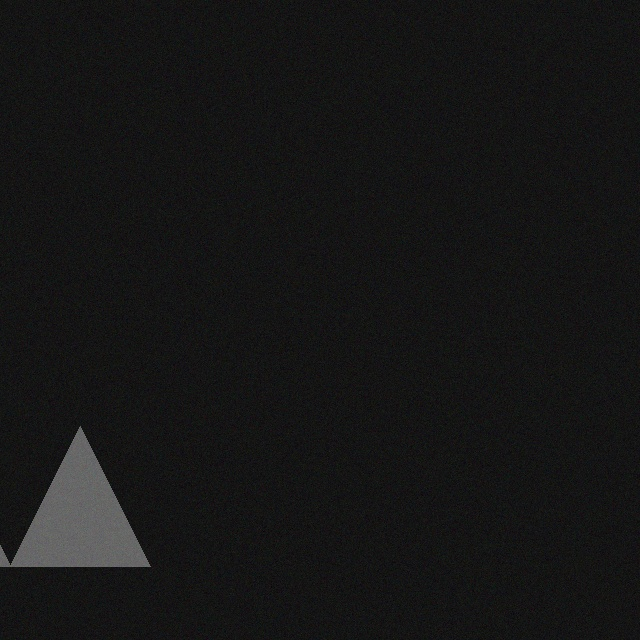triangle: (0, 422, 140, 562)
